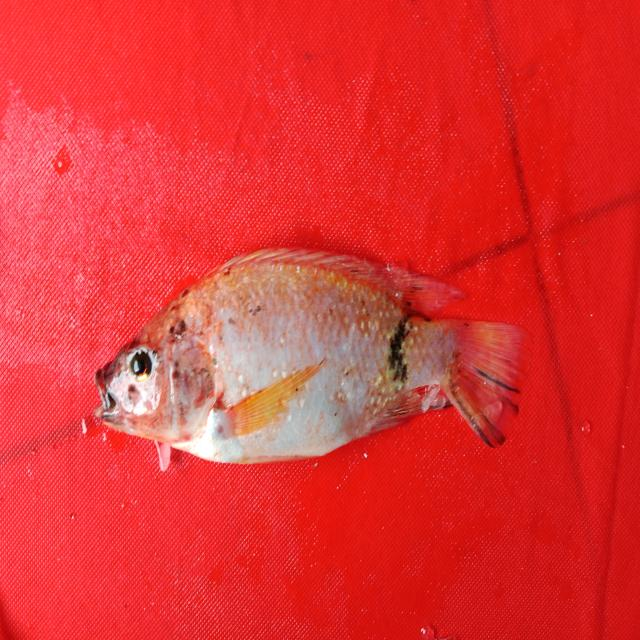ikan: (80, 205, 540, 478)
